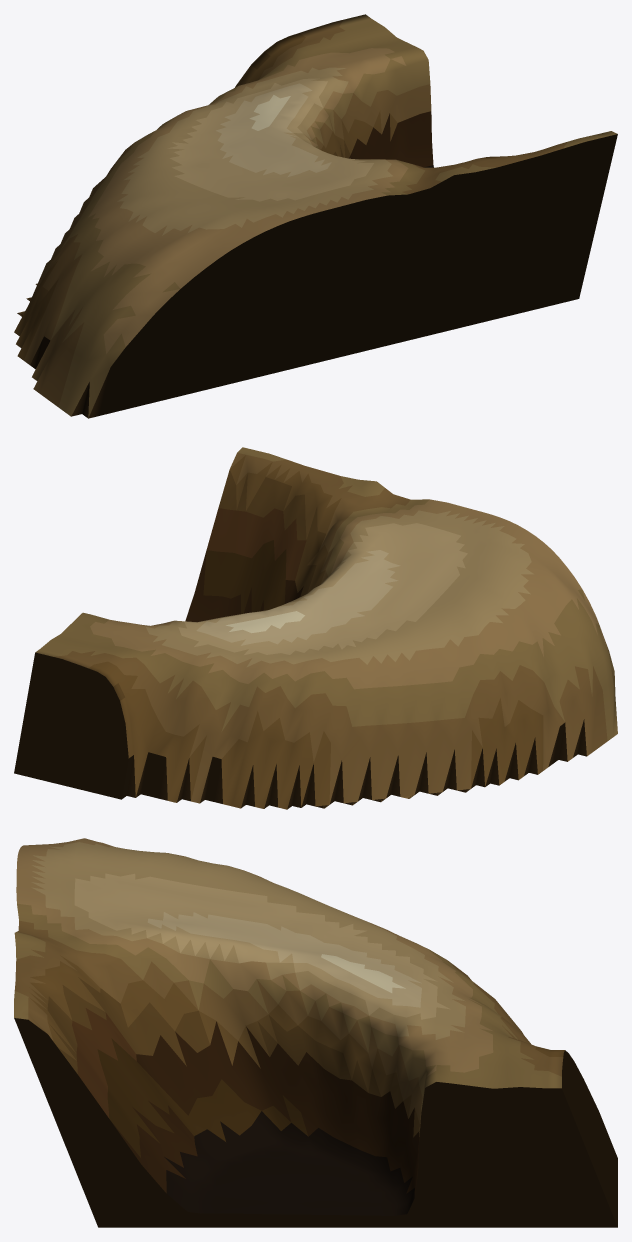
The model's file is tan_crater_tl.glb.
3 views of the same model, one above another, from view 1: azimuth 30°, elevation 25°; view 2: azimuth 150°, elevation 25°; view 3: azimuth 270°, elevation 25° (orthographic). The views are drawn at different scales.
Visible parts, largest first — view 1: tan_crater_tl; view 2: tan_crater_tl; view 3: tan_crater_tl.
Boxes of the visible parts, x1,y1,x2,y2 form: tan_crater_tl: (14,14,617,418); tan_crater_tl: (14,447,617,809); tan_crater_tl: (14,838,617,1227).
Bounding box in the file's own units: 23 × 8.47 × 22.08.
